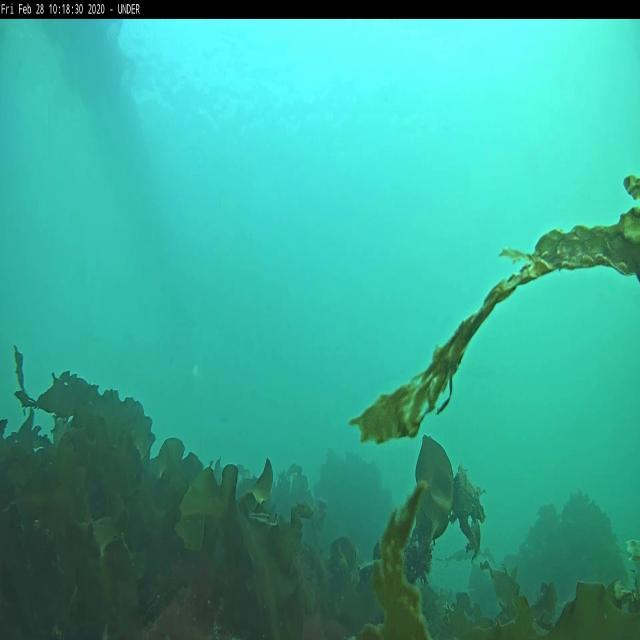fish: (247, 512, 280, 526)
